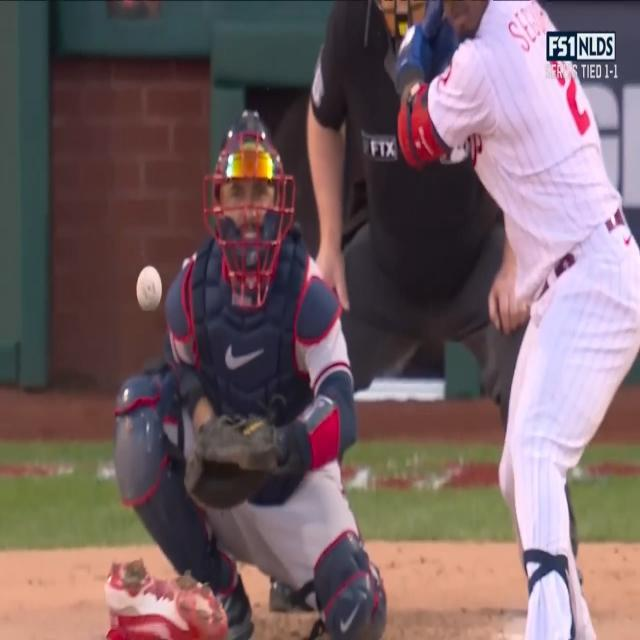baseball: (136, 264, 162, 313)
